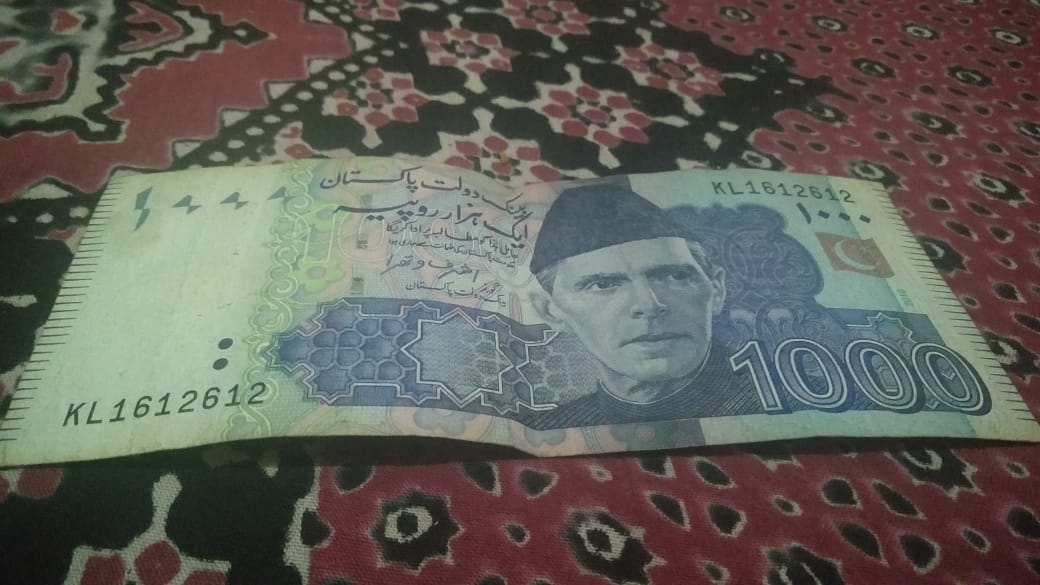1000 rupee: (14, 118, 1040, 487)
